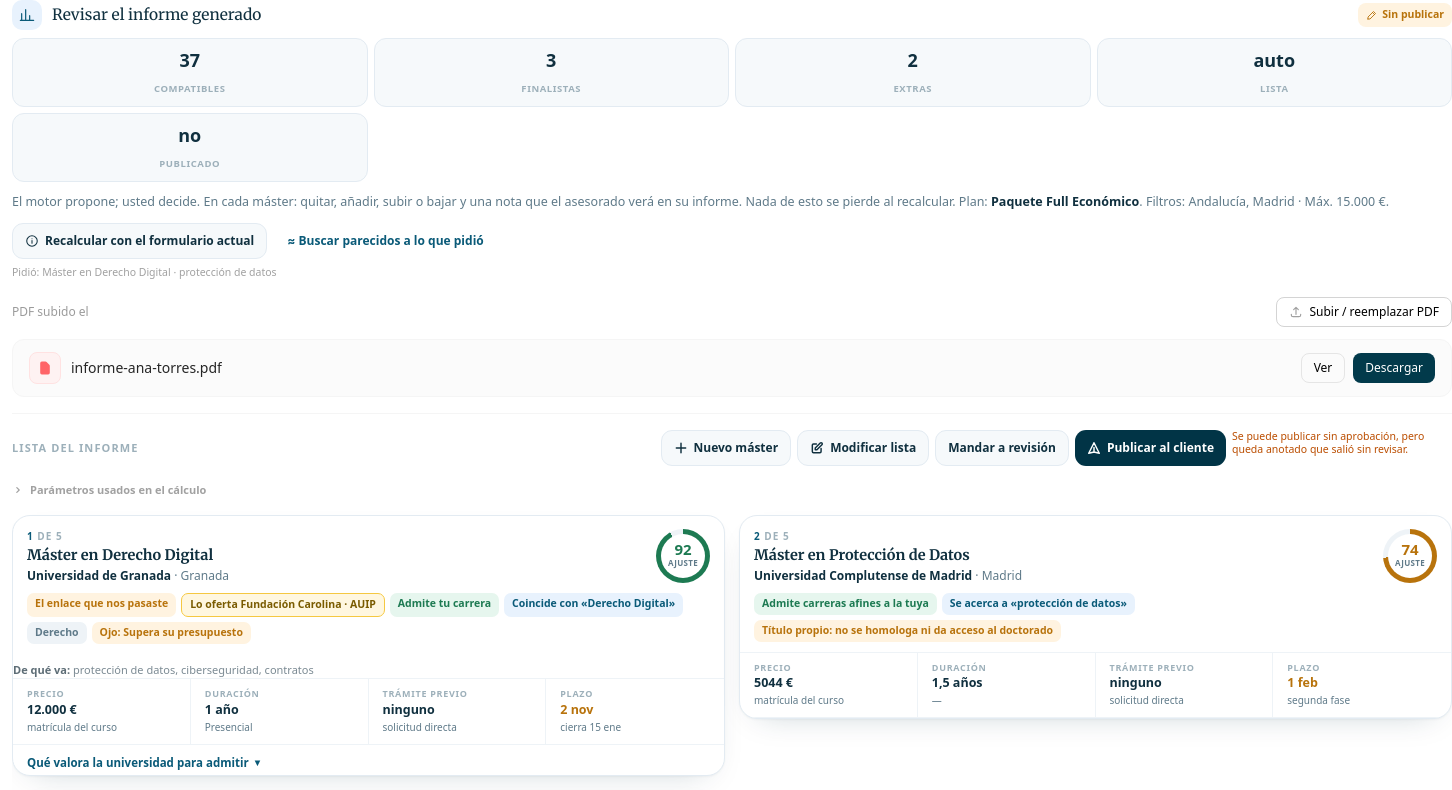
Scenario: InformeAdmin — vista › recalcular sin lista curada: solo cuenta qué pasó
Click the button "Recalcular con el formulario actual" at (140, 241), box 12,223 -> 267,259
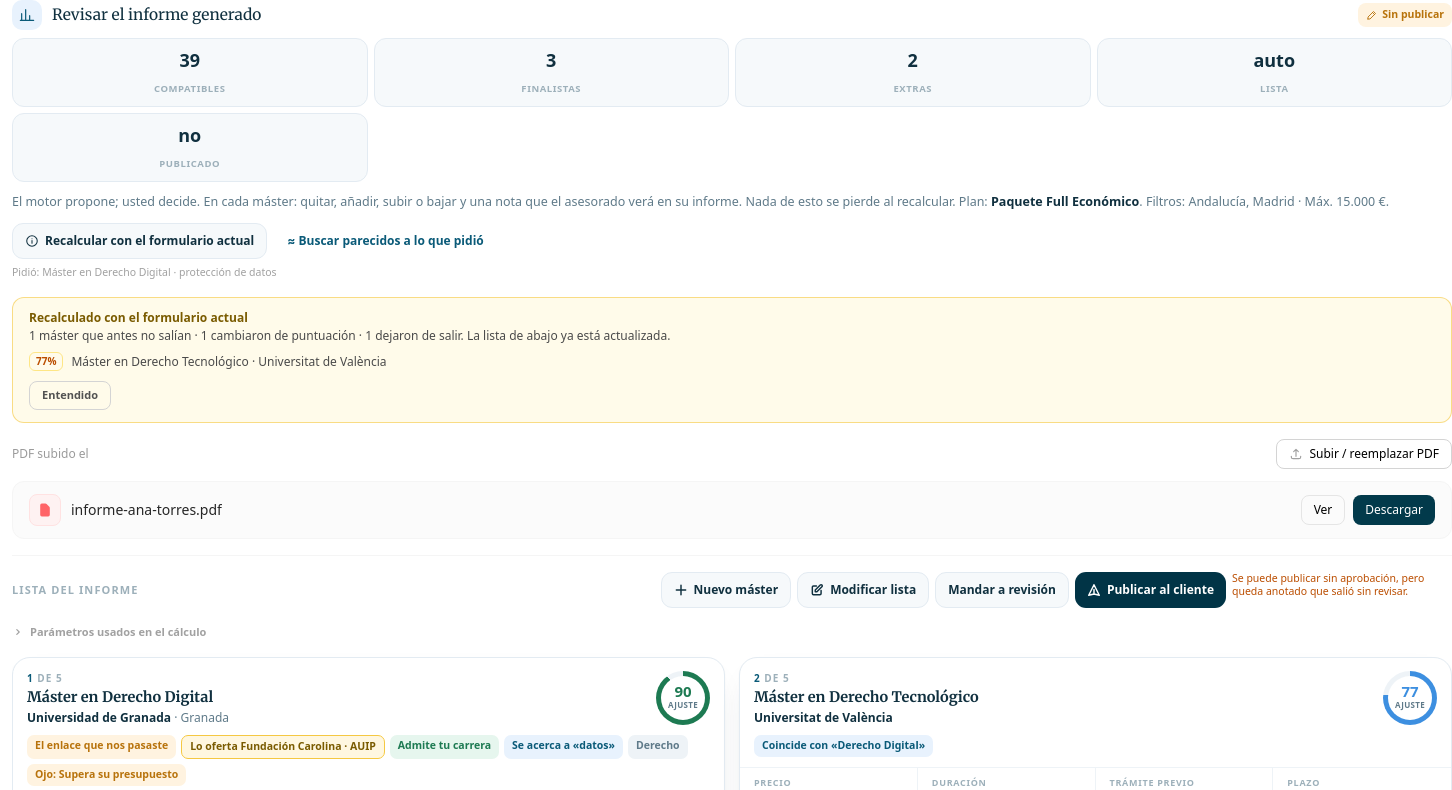
Click the button "Entendido" at (70, 396), box 29,382 -> 111,410
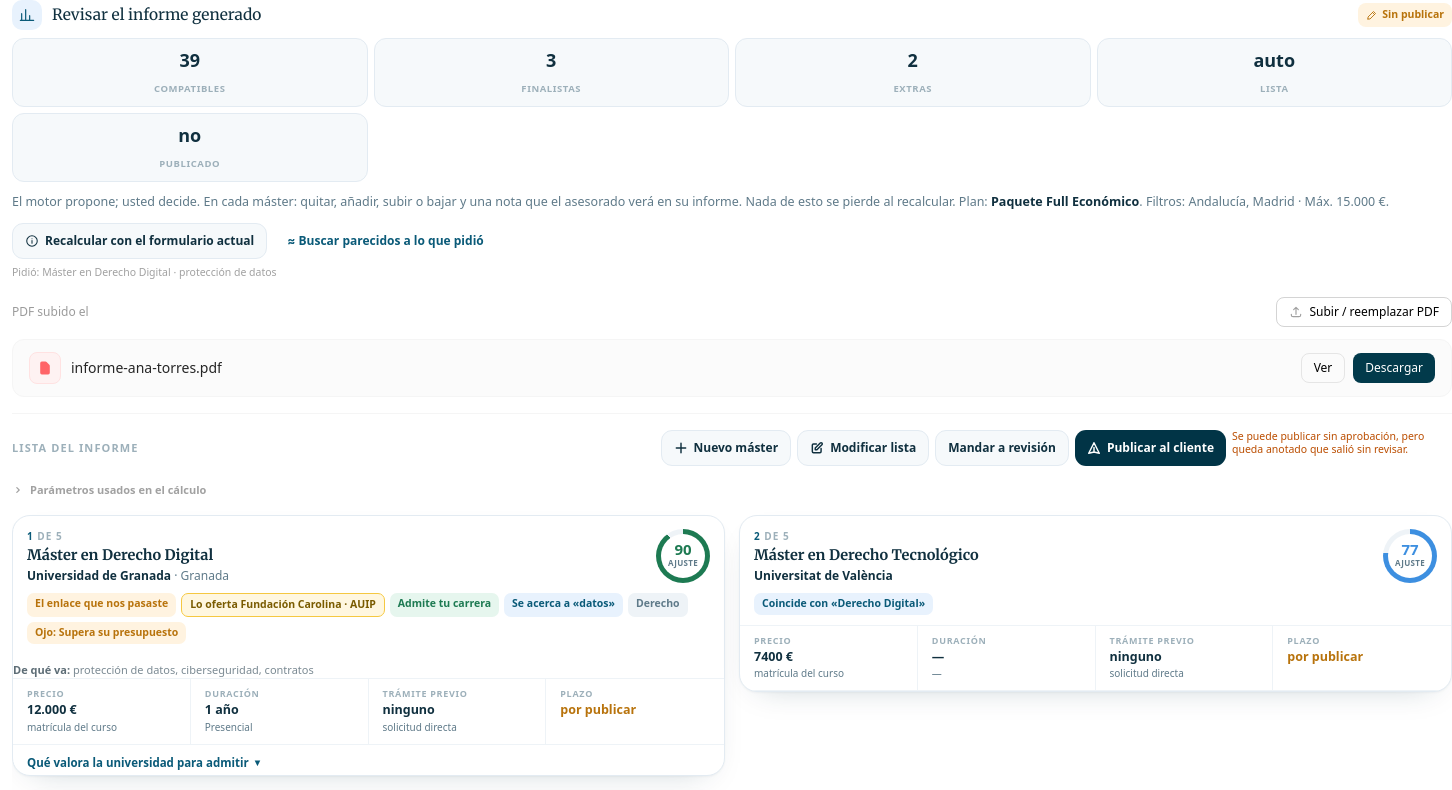
Result: the text "Recalculado con el formulario actual" is gone
